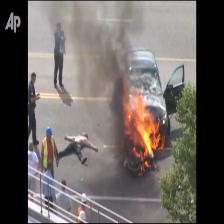fire: (131, 108, 155, 155)
smoke: (83, 8, 130, 125)
